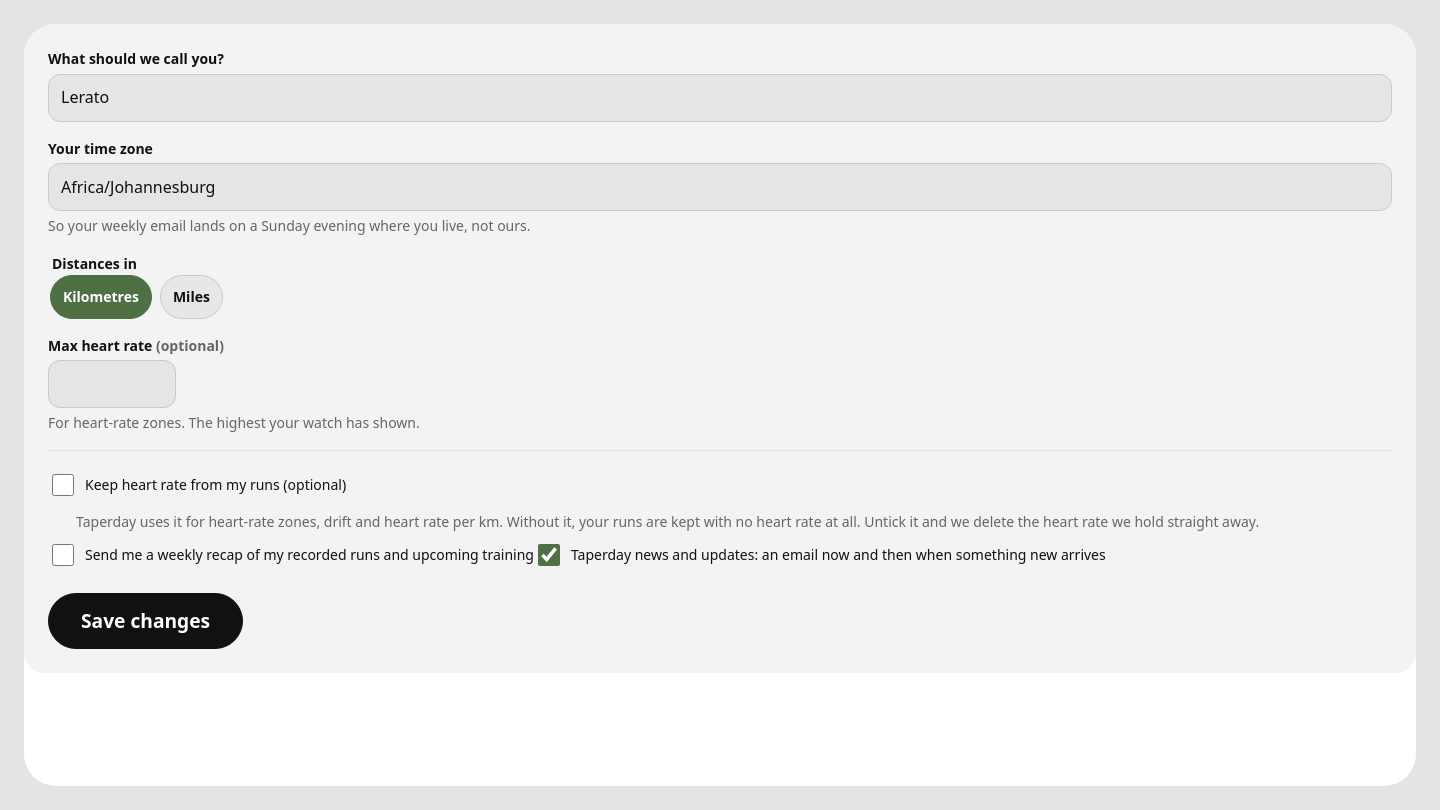
Test: update emails in Account › can be turned off and saved with the profile
Click the checkbox labelled "Taperday news and updates". click: (549, 555)
box: x1=538 y1=544 x2=560 y2=566
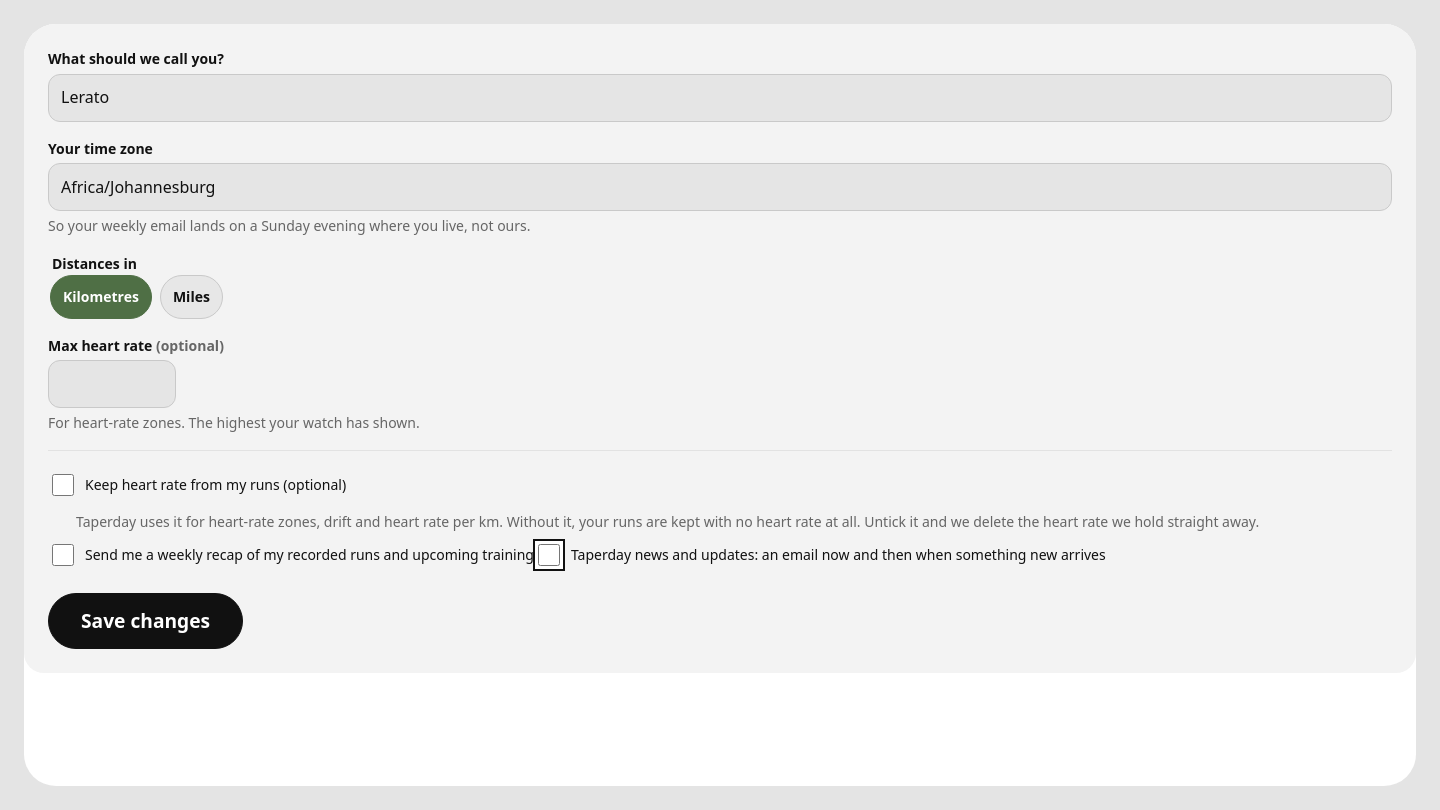
Click the button "Save changes". click: (146, 621)
box: x1=48 y1=593 x2=243 y2=649
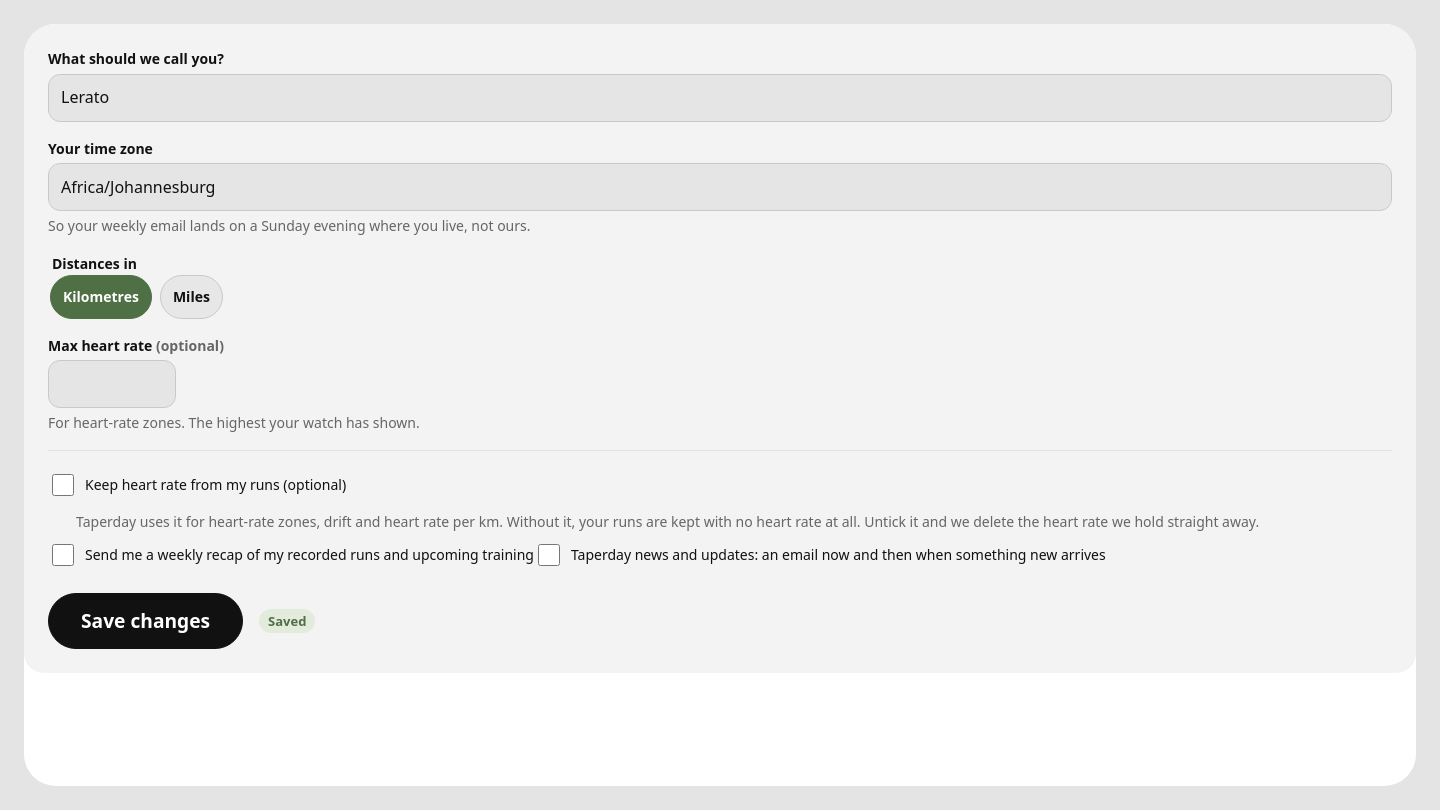
Now the text "Saved" is shown, box x1=259 y1=609 x2=315 y2=633
